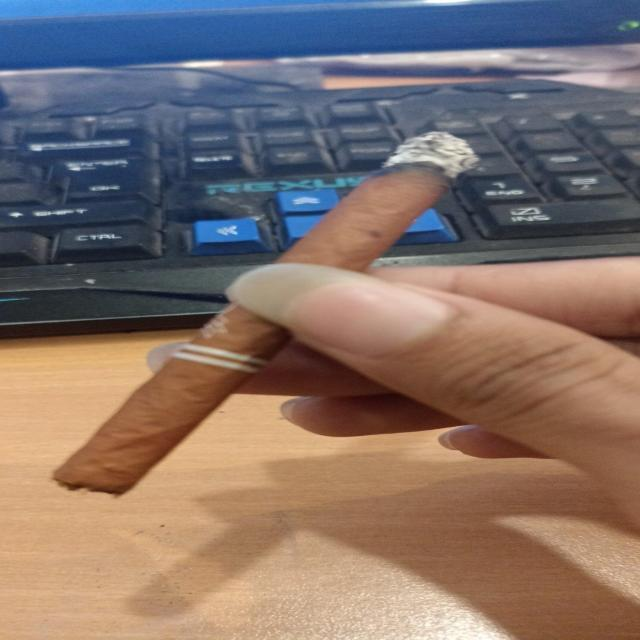rokok: (66, 133, 470, 490)
